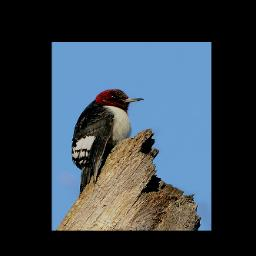Woodpecker: (71, 89, 145, 194)
